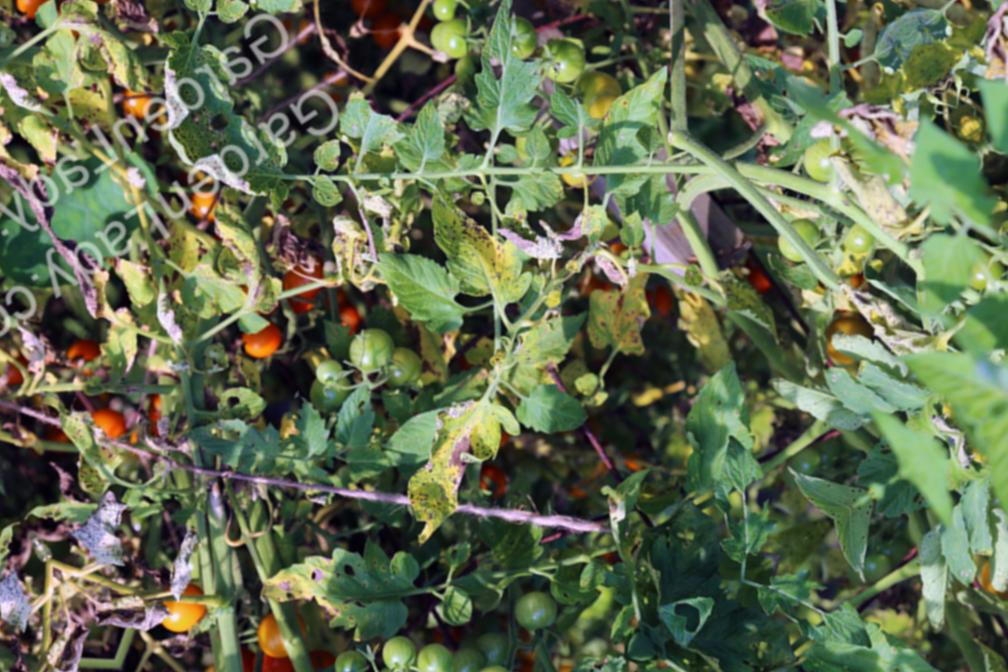Tomato Early blight leaf: (360, 375, 549, 548), (262, 506, 440, 672), (409, 177, 539, 323), (646, 361, 783, 498), (558, 67, 693, 183), (571, 267, 674, 368), (502, 301, 599, 385)
Tomato leaf: (365, 224, 480, 349)
